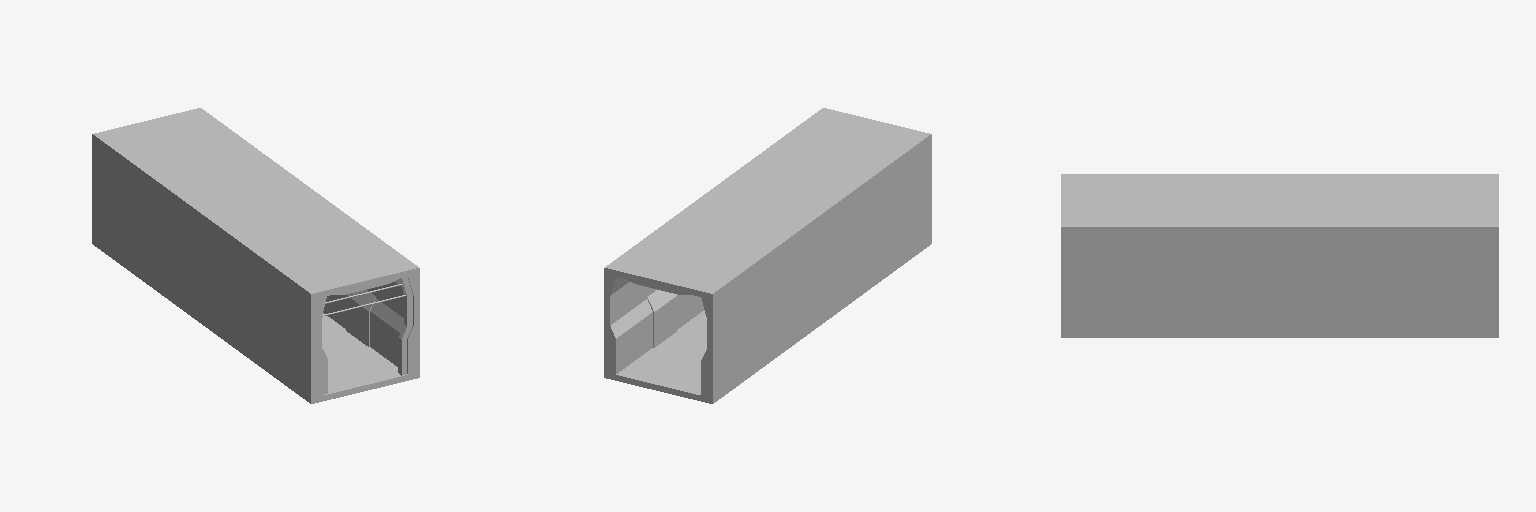
Rendered from corridoorstriaght.obj.
3 renders of one model, left to right at view 1: azimuth 30°, elevation 25°; view 2: azimuth 150°, elevation 25°; view 3: azimuth 270°, elevation 25°, orthographic.
Visible parts, largest first — view 1: Part13, Part7, Part14, Part3, Part4, Union3, Part19, Part5; view 2: Part13, Part7, Part14, Part3, Part4, Part2, Part5; view 3: Part3, Part7, Part14, Part13.
Part boxes in pixels (bbox=[...]): Part13: bbox=[92, 133, 316, 397]; Part7: bbox=[99, 109, 413, 298]; Part14: bbox=[92, 238, 419, 403]; Part3: bbox=[196, 108, 419, 372]; Part4: bbox=[323, 295, 413, 374]; Union3: bbox=[317, 277, 412, 394]; Part19: bbox=[346, 295, 369, 346]; Part5: bbox=[370, 298, 413, 338]; Part13: bbox=[707, 133, 931, 397]; Part7: bbox=[610, 109, 924, 298]; Part14: bbox=[604, 238, 931, 403]; Part3: bbox=[604, 108, 827, 372]; Part4: bbox=[610, 294, 703, 374]; Part2: bbox=[653, 296, 676, 347]; Part5: bbox=[610, 299, 652, 338]; Part3: bbox=[1061, 224, 1498, 331]; Part7: bbox=[1061, 177, 1498, 223]; Part14: bbox=[1061, 332, 1498, 337]; Part13: bbox=[1061, 174, 1498, 176].
Bounding box in the file's own units: 19 × 18.5 × 66.5.